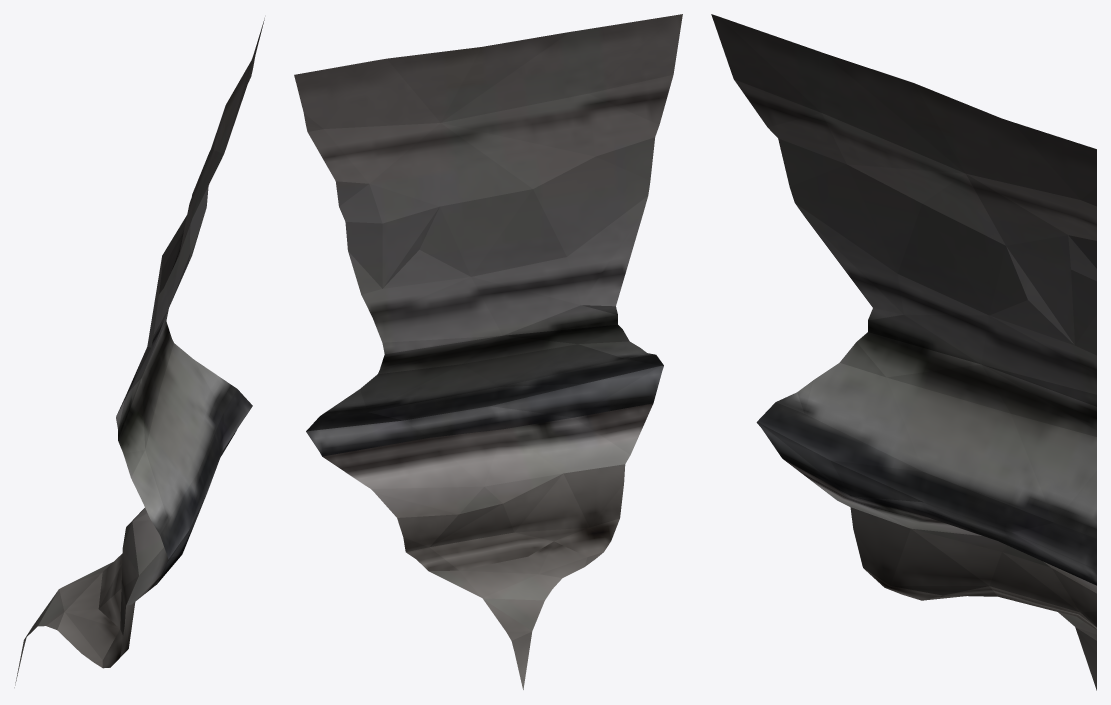
3 renders of one model, left to right at view 1: azimuth 30°, elevation 25°; view 2: azimuth 150°, elevation 25°; view 3: azimuth 270°, elevation 25°, orthographic. The views are drawn at different scales.
Bounding box in the file's own units: 0.1635 × 0.3817 × 0.1971.
1 material, 1 textured.
